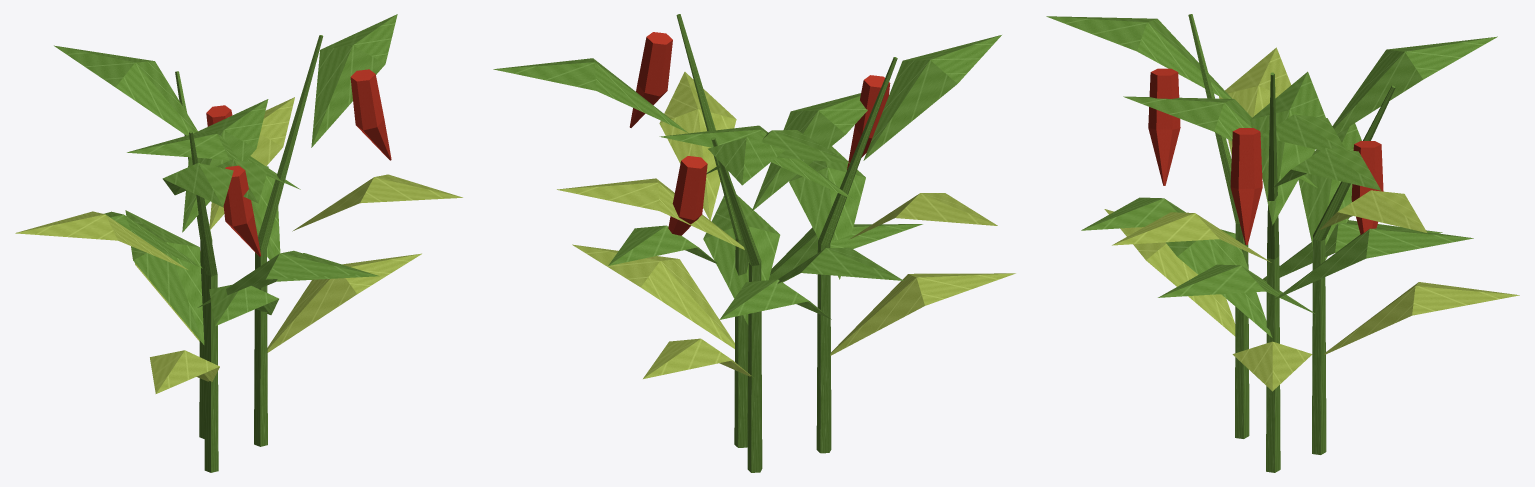
Rendered from crop-chili-ready.glb.
3 views of the same model, side by side, from view 1: azimuth 30°, elevation 25°; view 2: azimuth 150°, elevation 25°; view 3: azimuth 270°, elevation 25° (orthographic). The views are drawn at different scales.
Visible parts, largest first — view 1: crop-chili-ready; view 2: crop-chili-ready; view 3: crop-chili-ready.
Boxes of the visible parts, box(x1,y1,x2,y2) form: crop-chili-ready: box(15, 14, 462, 472); crop-chili-ready: box(493, 14, 1015, 472); crop-chili-ready: box(1046, 14, 1519, 472).
Size of the model in its own units: 0.9414 by 0.8212 by 0.8257.
Materials: 1 (1 with a texture image).
